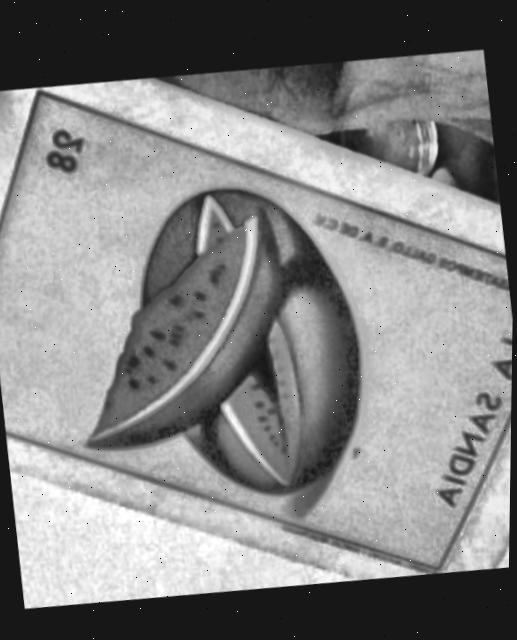La Sandia: (0, 95, 513, 570)
